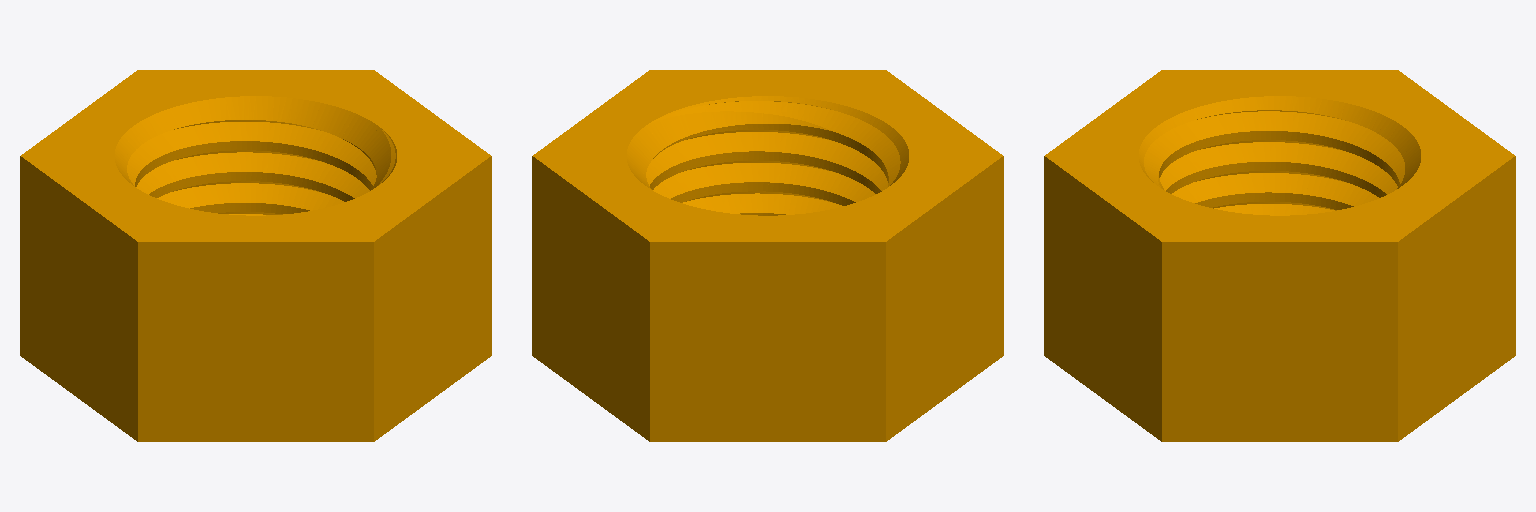
URDF robot description (factory_nut_m16_loose):
<?xml version="1.0"?>
<robot name="factory_nut_m16_loose">
    <link name="factory_nut_m16_loose">
        <visual>
            <geometry>
                <mesh filename="../mesh/factory_nut_bolt/factory_nut_m16_loose_subdiv_3x.obj"/>
            </geometry>
        </visual>
        <collision>
            <geometry>
                <mesh filename="../mesh/factory_nut_bolt/factory_nut_m16_loose_subdiv_3x.obj"/>
            </geometry>
            <sdf resolution="256"/>
        </collision>
    </link>
</robot>

--- Facts derived from the render (not from the file) ---
3 views of the same robot in one strip: view 1: azimuth 30°, elevation 25°; view 2: azimuth 150°, elevation 25°; view 3: azimuth 270°, elevation 25° (orthographic).
Model factory_nut_m16_loose with 1 links and 0 joints (none), rooted at factory_nut_m16_loose, posed every joint at zero.
Visible links, largest first — view 1: factory_nut_m16_loose; view 2: factory_nut_m16_loose; view 3: factory_nut_m16_loose.
Link boxes in pixels (x1,y1,x2,y2): factory_nut_m16_loose: [20, 70, 491, 441]; factory_nut_m16_loose: [532, 70, 1003, 441]; factory_nut_m16_loose: [1044, 70, 1515, 441].
Bounding box of the posed robot: 0.024 × 0.0277 × 0.013 m (x, y, z).
1 mesh visuals loaded from 1 distinct referenced files (1 OBJ).